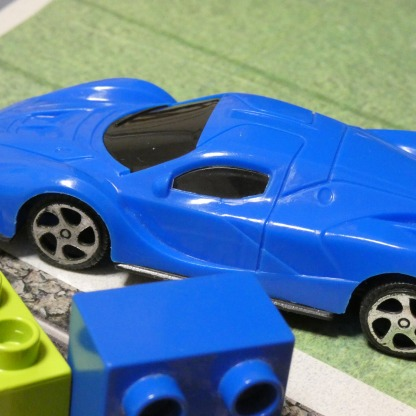car: (0, 74, 416, 366)
